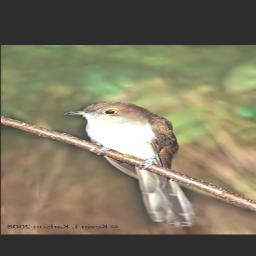Cuckoo: (66, 101, 197, 227)
